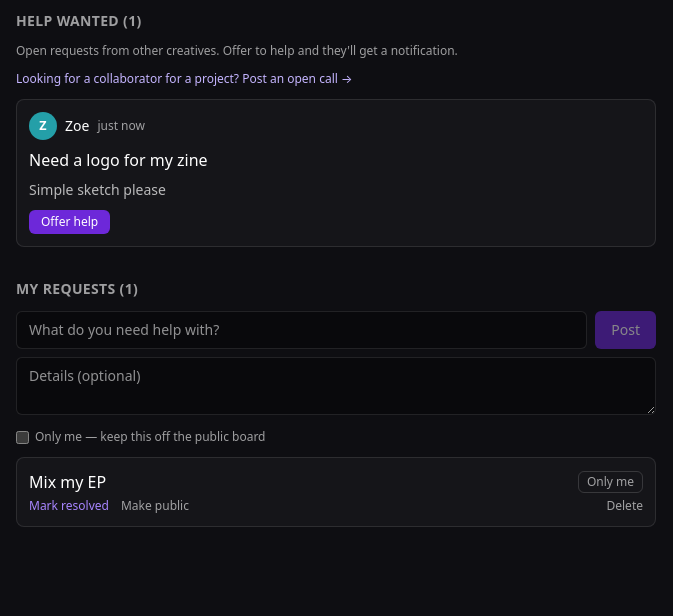
Test: TasksPage (Help wanted) › offers help with an optional note and then shows it was sent
Click the button "Offer help" at (70, 222), box top-left (29, 210), bottom-right (110, 234)
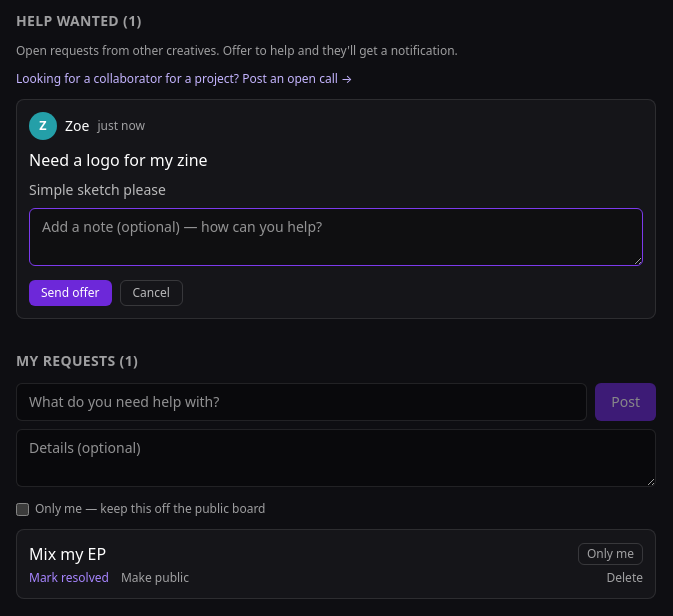
Type "Happy to sketch something" into the text box with placeholder "Add a note (optional) — how can you help?" at (336, 237), box top-left (29, 208), bottom-right (643, 266)
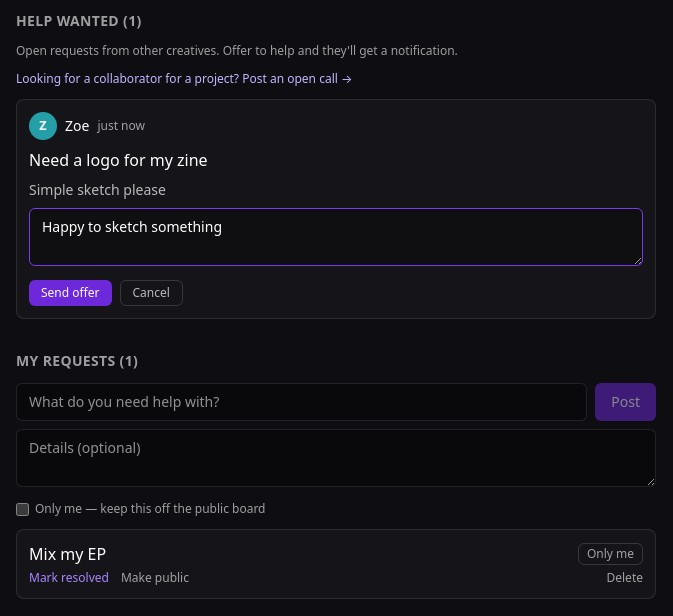
Click the button "Send offer" at (70, 293), box top-left (29, 280), bottom-right (112, 306)
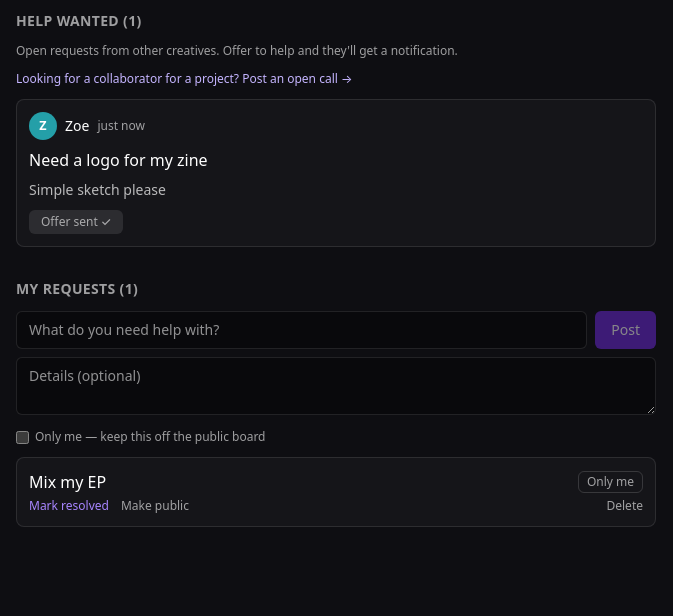
Expected: the button "Offer sent ✓" is disabled, top-left (29, 210), bottom-right (124, 234)
